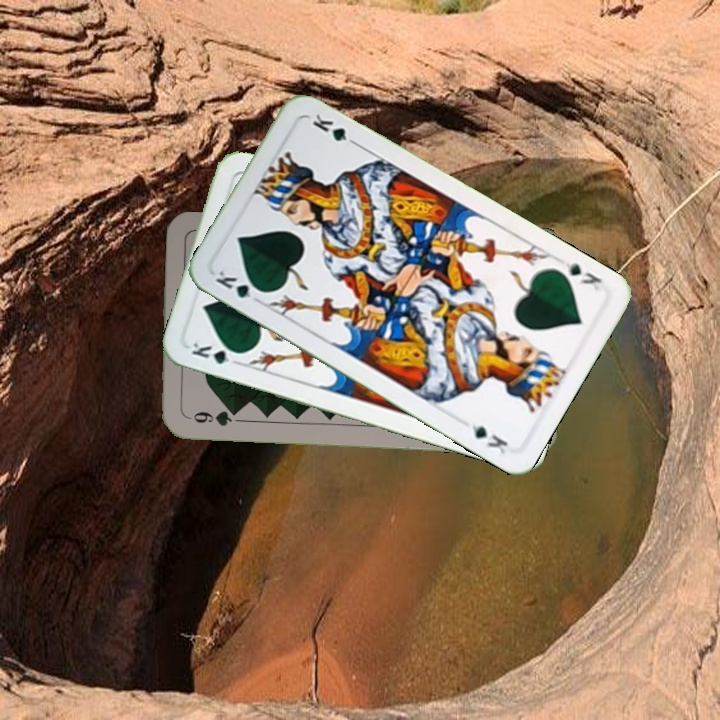G9: (182, 406, 242, 429)
GK: (211, 266, 268, 306), (187, 338, 245, 368), (560, 258, 604, 294)
